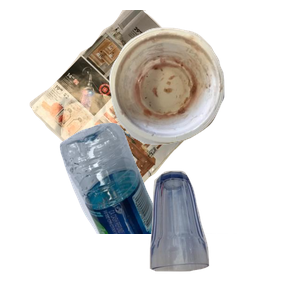glass: (147, 168, 300, 300)
paper: (27, 10, 230, 190)
plastic: (57, 120, 284, 300)
trash: (107, 25, 300, 162)
